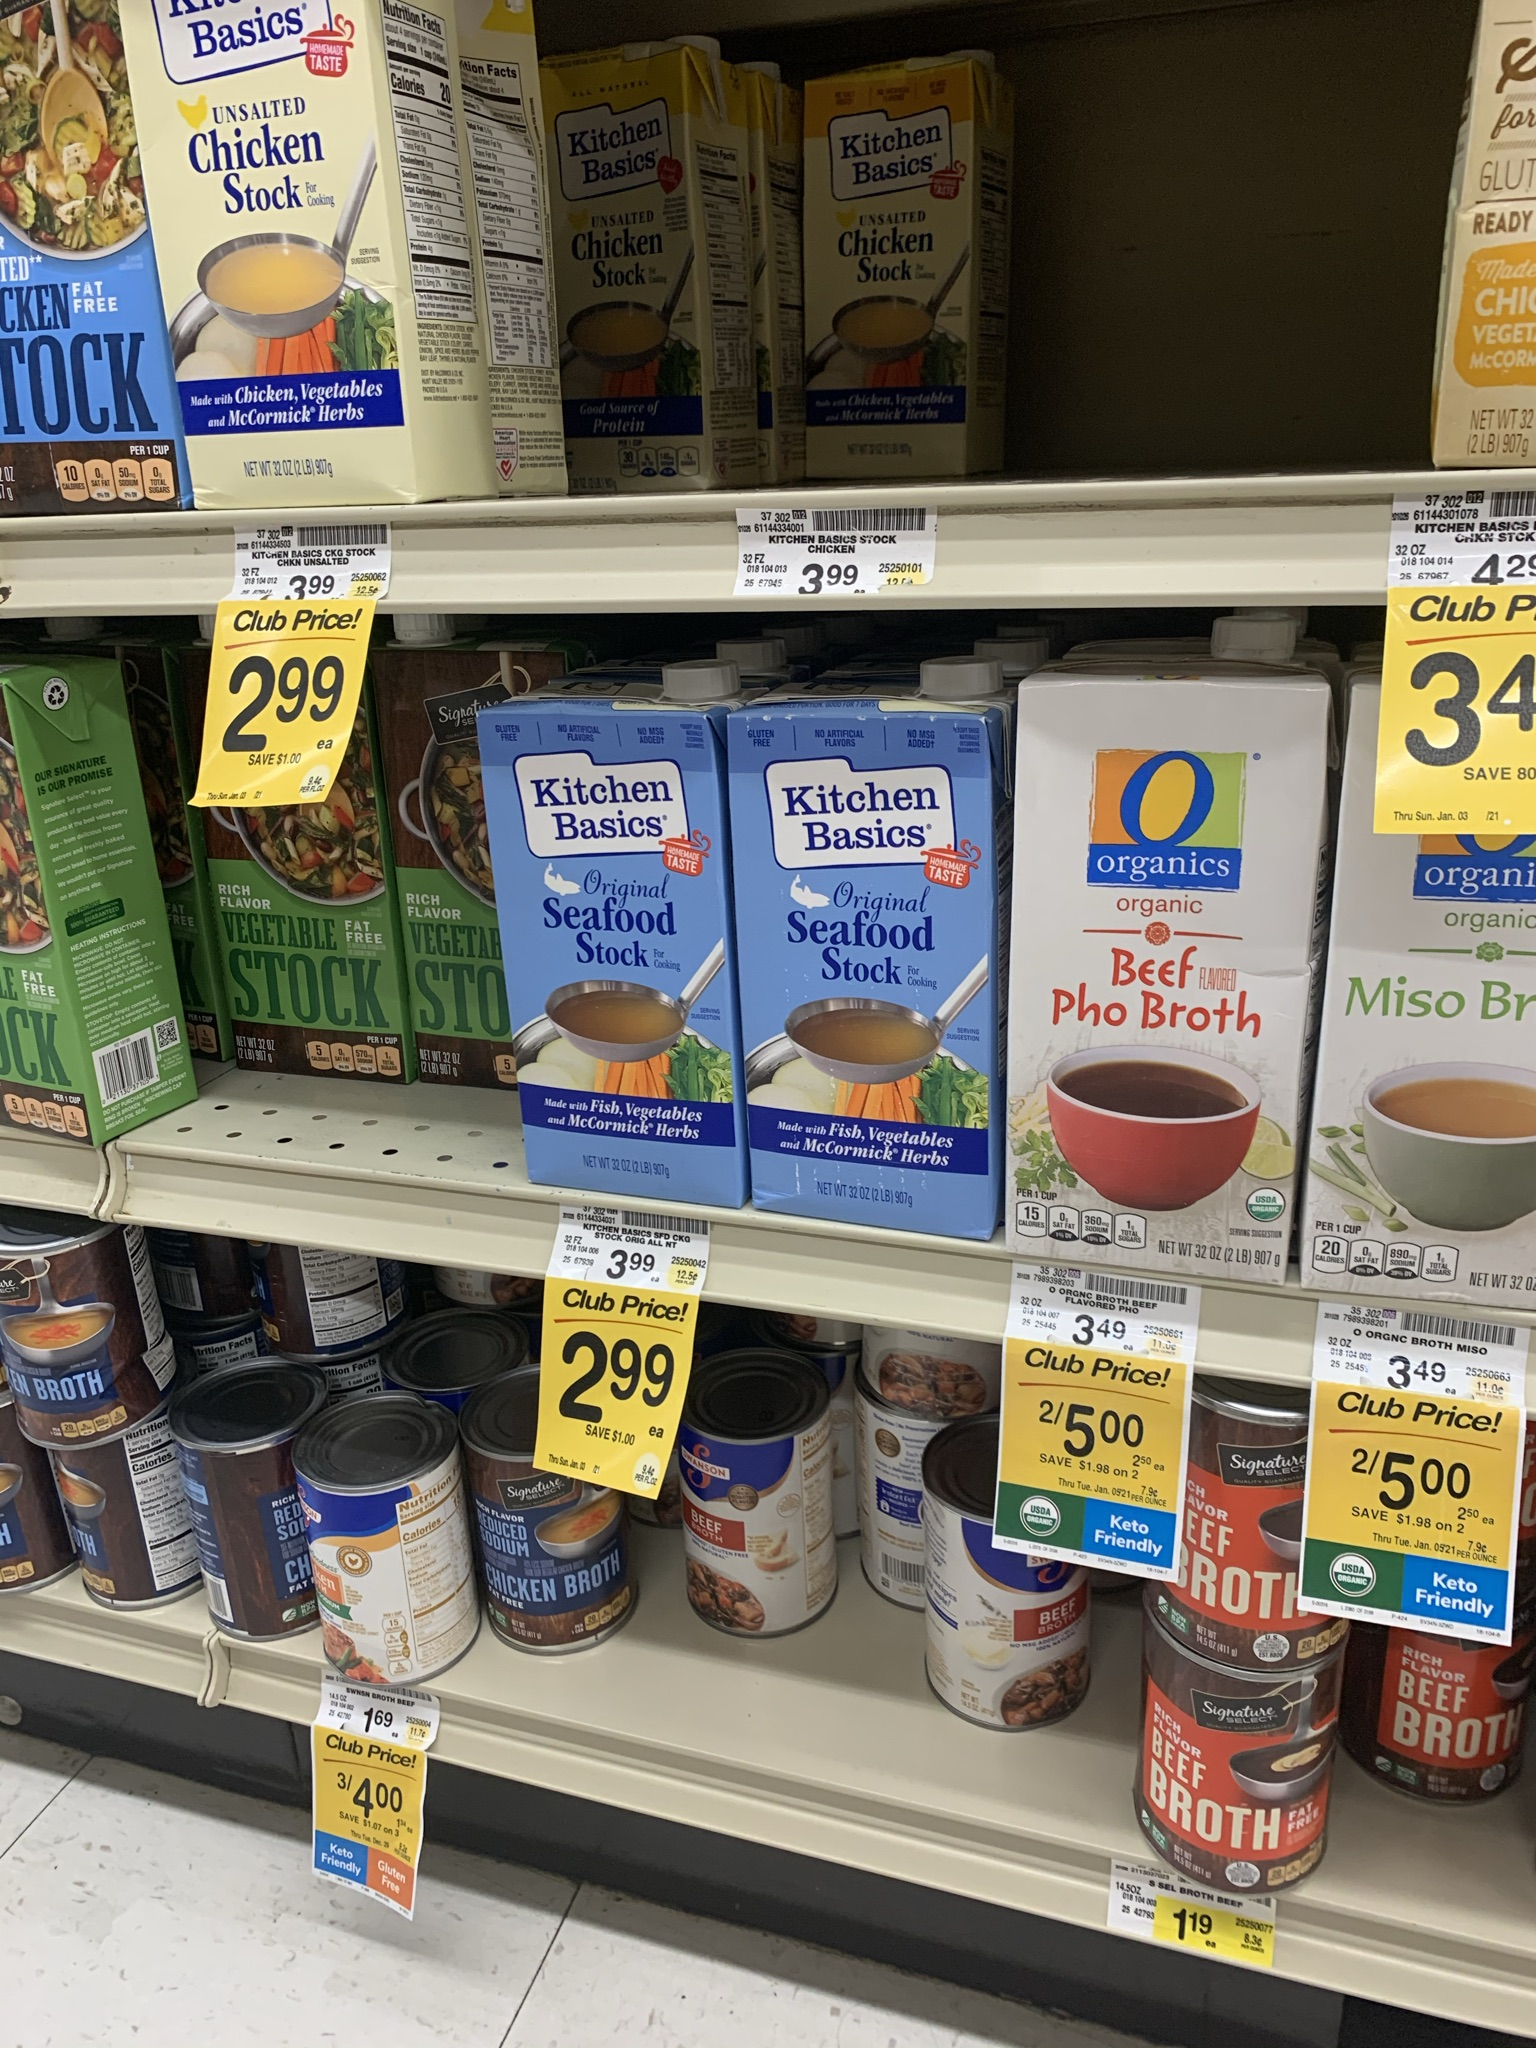box: (1031, 698, 1288, 1261), (186, 19, 426, 508), (760, 732, 984, 1218), (528, 727, 731, 1197), (808, 97, 971, 472), (563, 65, 700, 484)
can: (1150, 1650, 1317, 1872), (310, 1472, 450, 1658), (937, 1542, 1086, 1716), (697, 1427, 828, 1619), (6, 1256, 148, 1409), (482, 1479, 616, 1632), (197, 1453, 298, 1621)
